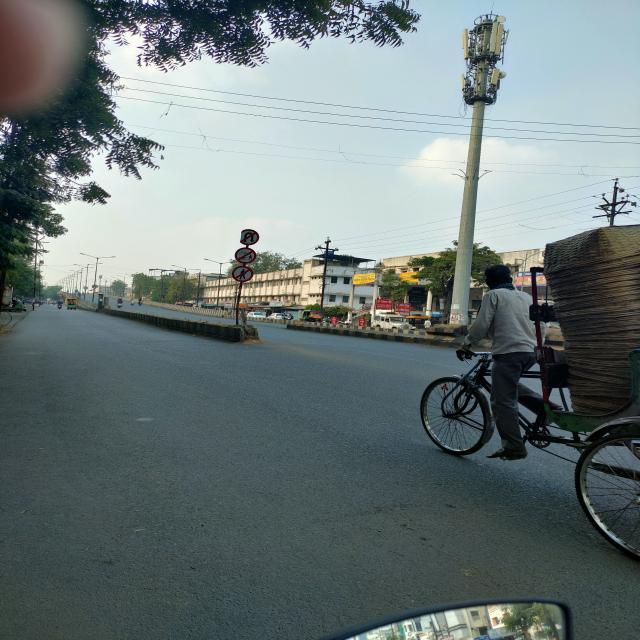CYCLE_PROHIBITED: (235, 248, 259, 264)
